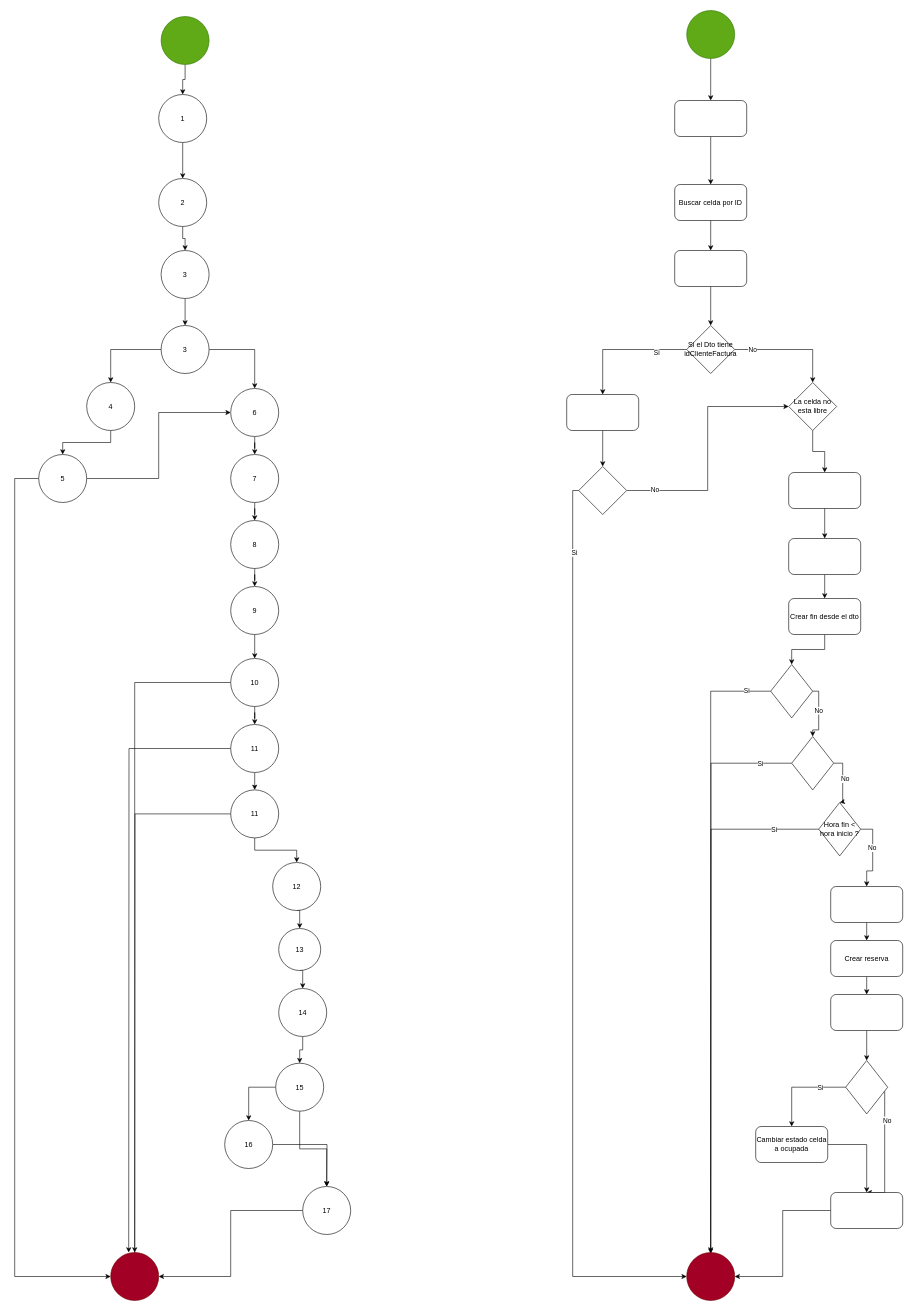
Some shapes in this 913 by 1311 pixel diagram are drawn without their labels. Each missing label, with the box of its shape:
Buscar ciente factura por ID: (566, 394, 639, 430)
Buscar vehiculo por ID: (674, 100, 747, 136)
Crear fecha: (788, 472, 861, 508)
Crear hora inicio desde el dto: (788, 538, 861, 574)
Crear objeto cliente: (674, 250, 747, 286)
Devolver reserva: (830, 1192, 903, 1228)
Guardar reserva: (830, 994, 903, 1030)
No Existe cliente factura?: (578, 466, 627, 514)
No hay hora de fin: (791, 736, 834, 790)
NO hay hora de inicio?: (770, 664, 813, 718)
Ocupa tiempo actual?: (845, 1060, 888, 1114)
Validar reglas de reserva: (830, 886, 903, 922)
